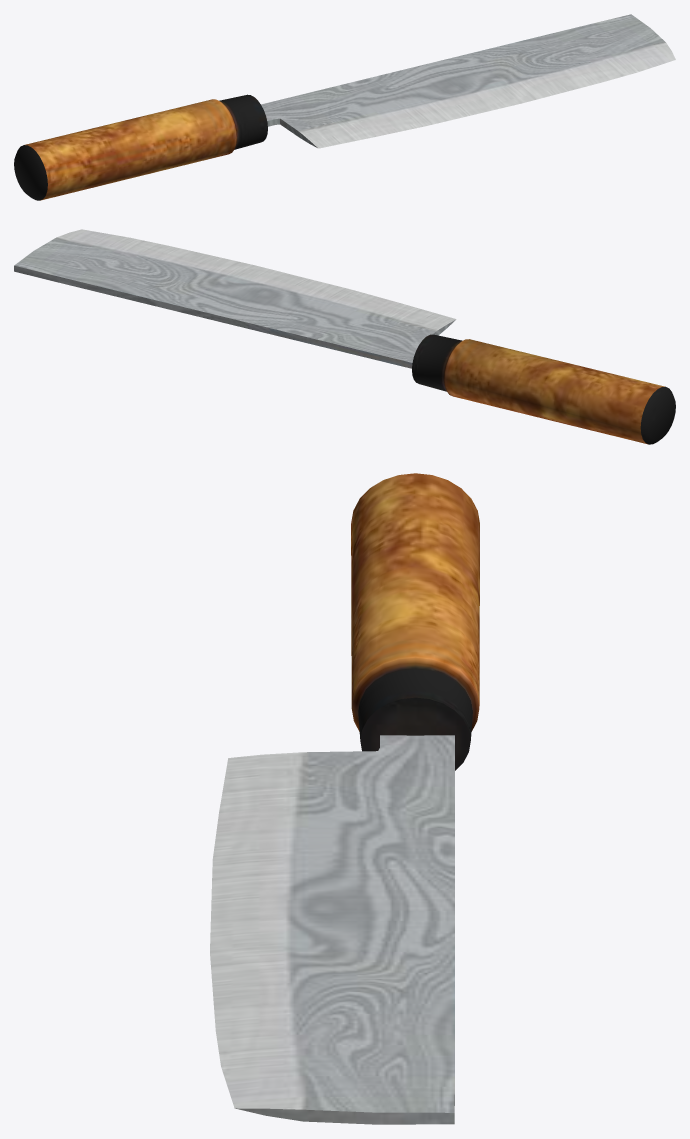
File: knife.glb
The picture shows the model from 3 angles, top to bottom: view 1: azimuth 30°, elevation 25°; view 2: azimuth 150°, elevation 25°; view 3: azimuth 270°, elevation 25°; orthographic projection. The views are drawn at different scales.
Visible parts, largest first — view 1: Knife_A; view 2: Knife_A; view 3: Knife_A.
Part boxes in pixels (<box>): Knife_A: <box>14,14,675,200</box>; Knife_A: <box>14,229,675,444</box>; Knife_A: <box>210,473,479,1124</box>.
Size of the model in its own units: 0.4007 by 0.0316 by 0.0764.
1 material, 1 textured.
